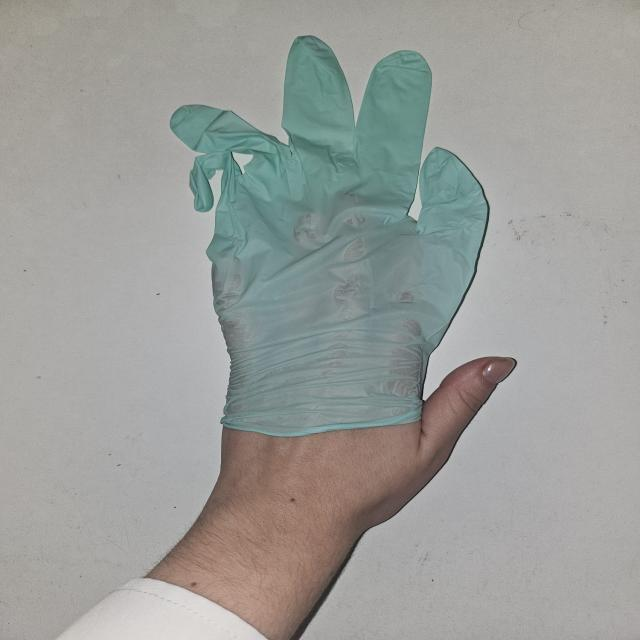glove_partial: (170, 33, 518, 526)
